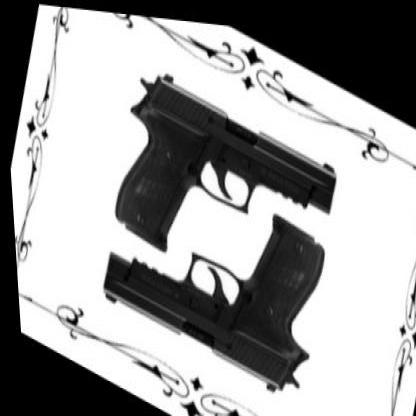pistol: (88, 130, 334, 404), (101, 54, 344, 330)
